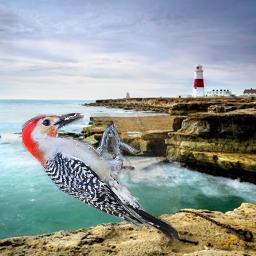Woodpecker: (22, 113, 180, 242)
